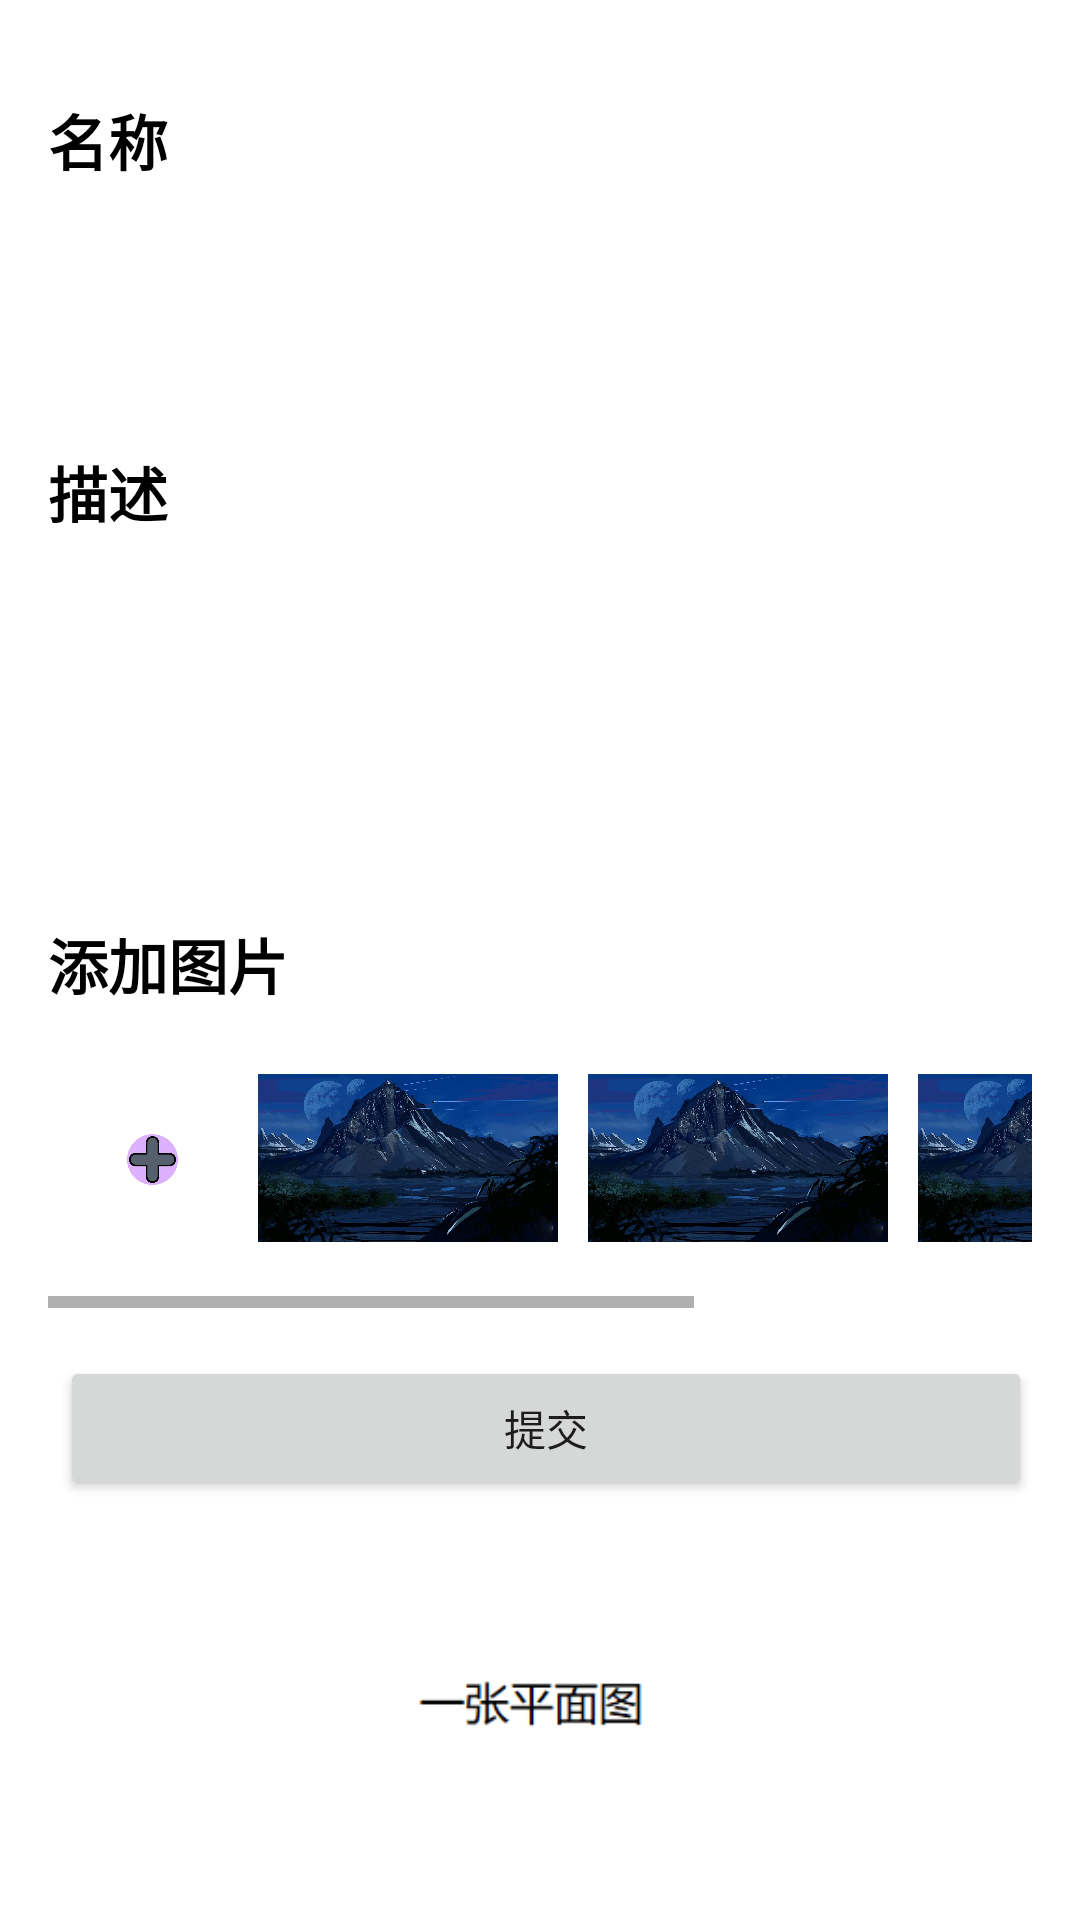

Icons on this 1080px x 1920px Android screen, each with the point to tap as [x,y]:
add: [152,1159]
